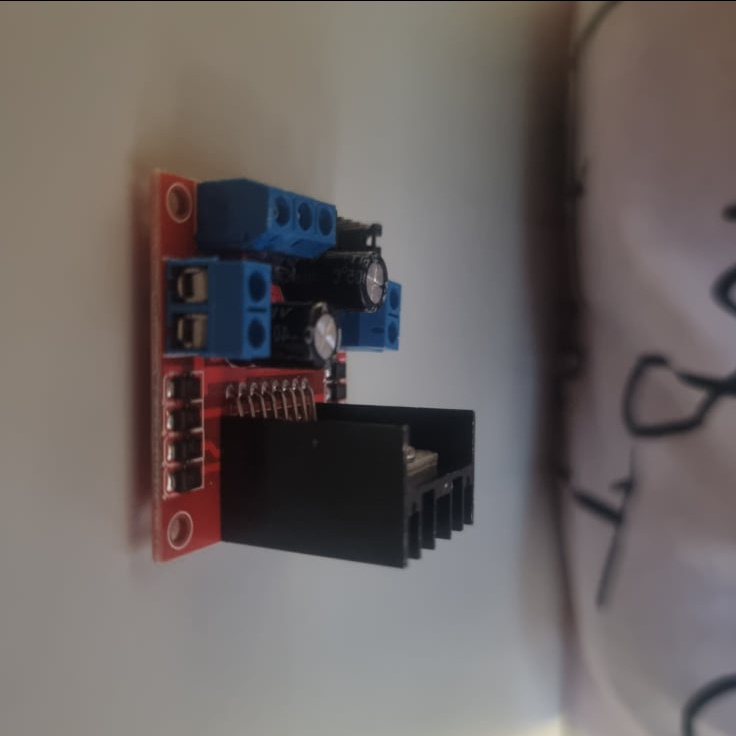MOTOR: (148, 164, 476, 572)
